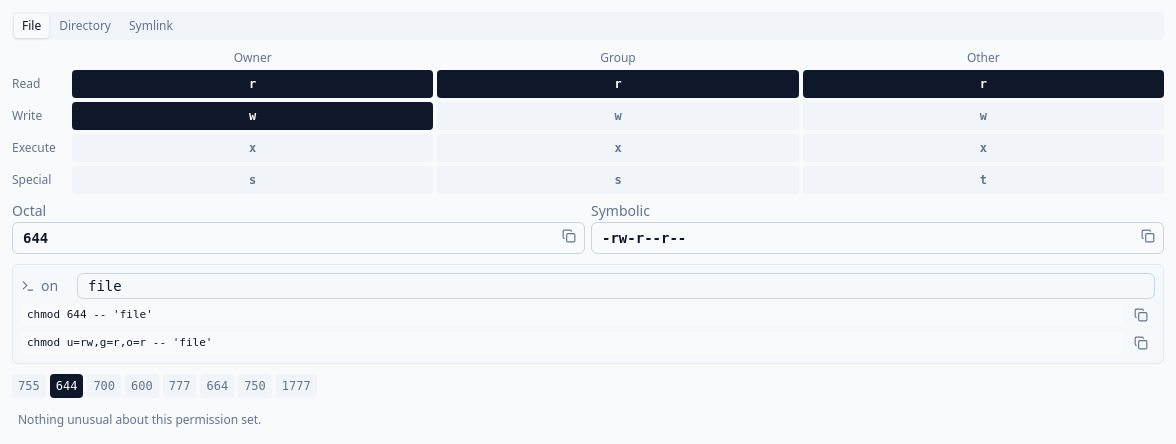
Scenario: UnixPermissionsWidget › toggling a checkbox updates the octal and symbolic fields
The width and height of the screenshot is (1176, 444).
Step 1. Click the button named "Owner execute" → (253, 148), box [72,134,433,162]
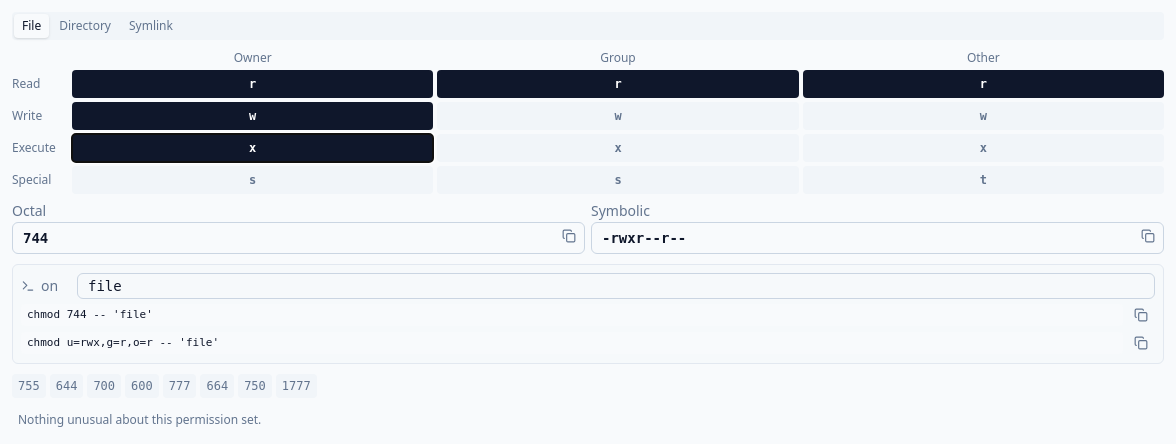
Expected: the field labelled "Octal" holds "744", [12,222,585,254]
Expected: the field labelled "Symbolic" holds "-rwxr--r--", [591,222,1164,254]
